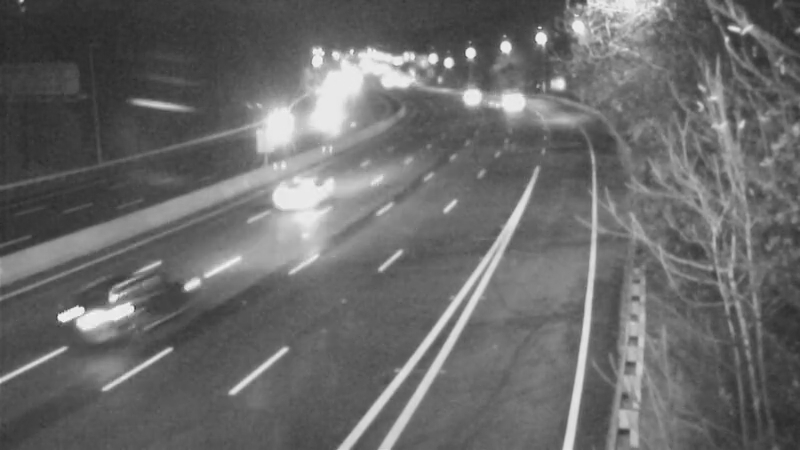vehicle: (36, 263, 146, 373), (273, 153, 353, 233), (490, 77, 540, 127), (441, 68, 491, 118), (248, 100, 298, 150), (299, 91, 349, 141)
